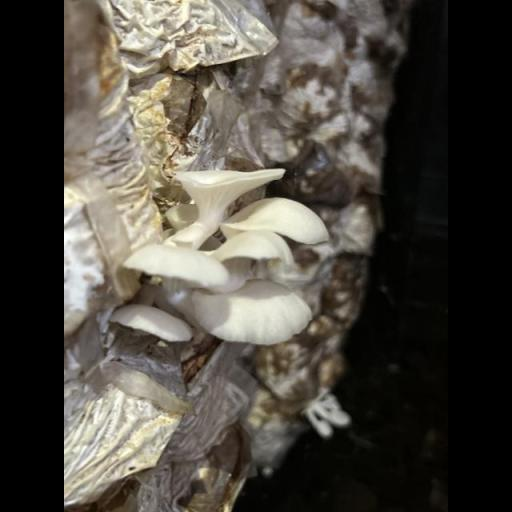White Oyster Mushroom: (123, 155, 336, 370)
